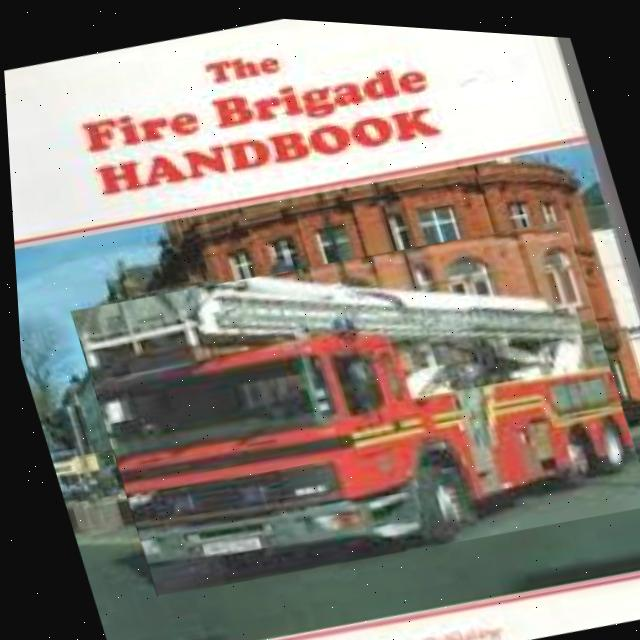Fire Truck: (62, 185, 640, 621)
